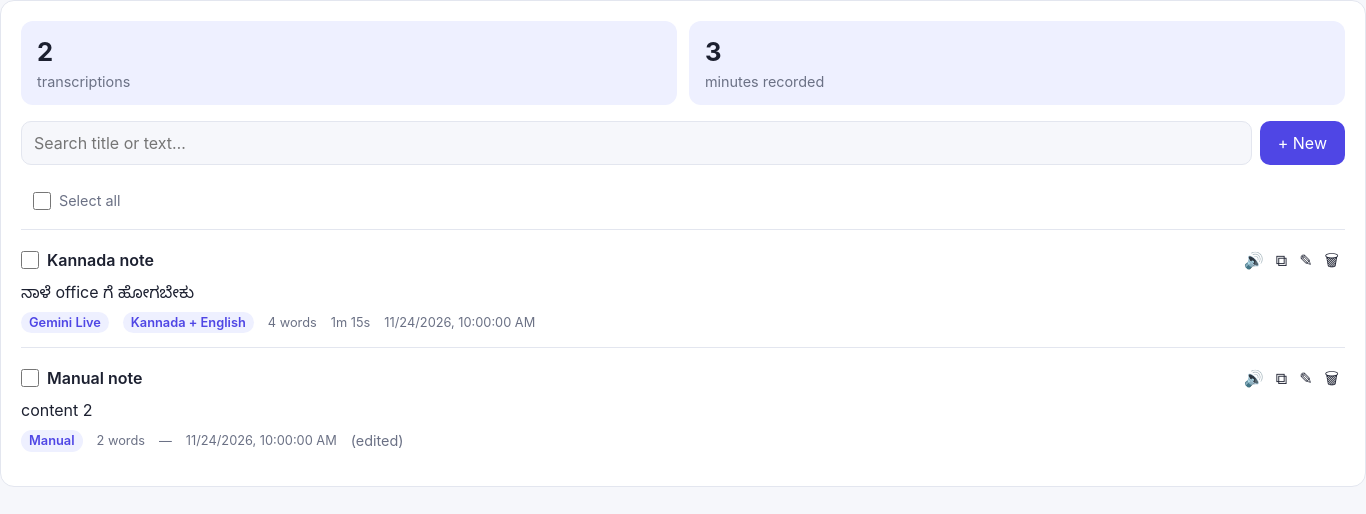
Test: HistoryDashboard › multi-select › select all toggles every row on the page
expect the button "Kannada note" is shown: met, box x1=47 y1=248 x2=1230 y2=272
Click the checkbox named "Select all on this page": point(42, 201) x1=33 y1=192 x2=51 y2=210
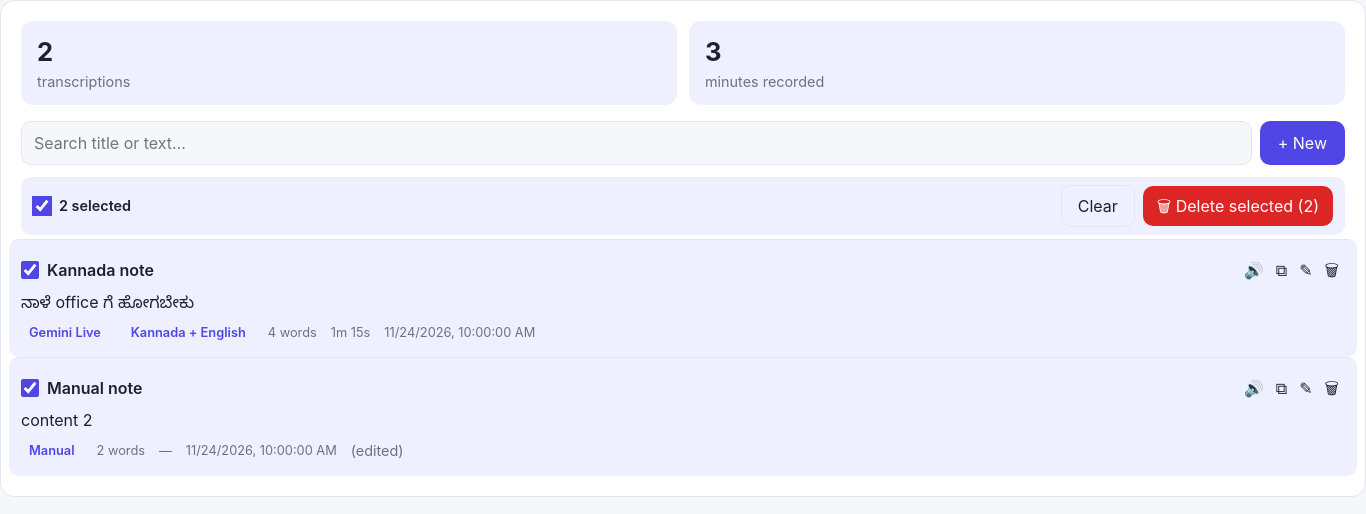
expect the checkbox named "Select all on this page" is checked: met
expect the text "2 selected" is shown: met, box x1=59 y1=195 x2=131 y2=217
Click the checkbox named "Select all on this page": point(42, 206) x1=33 y1=197 x2=51 y2=215
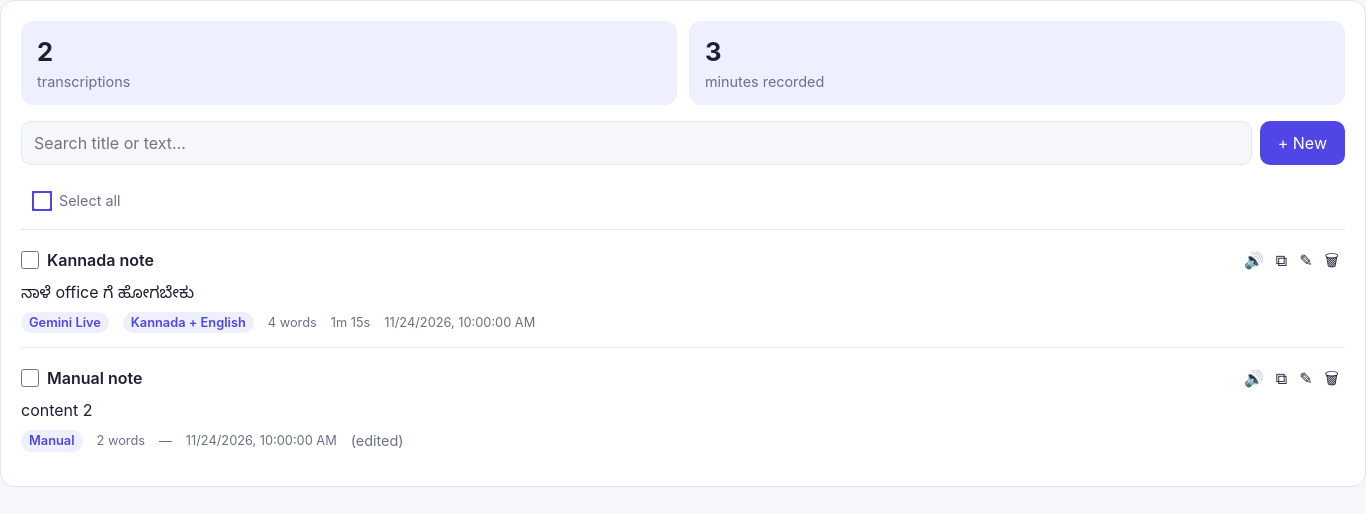
expect the text "Select all" is shown: met, box x1=59 y1=190 x2=120 y2=212
